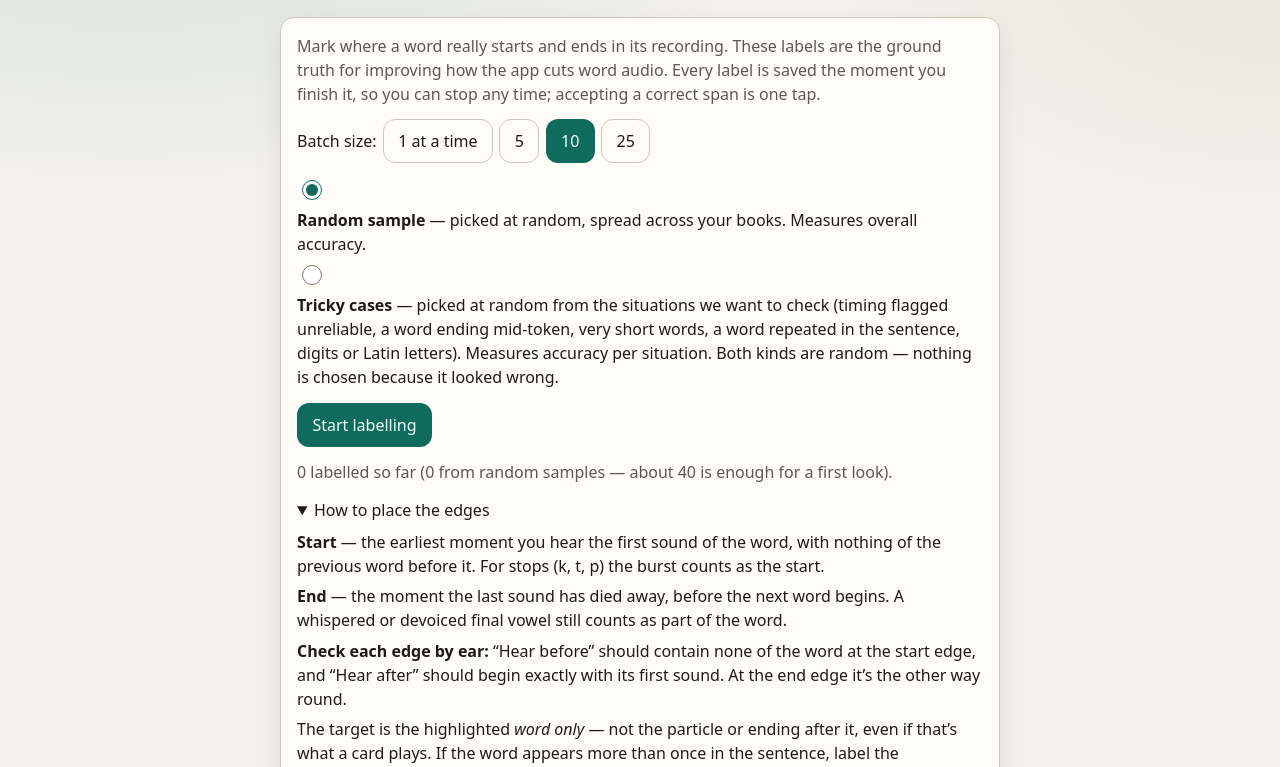
Test: LabelWordAudioPage › sampling situations › records which situation each item fell in, and how common it was in the pool
Click the button "Start labelling". click: (364, 425)
box: [297, 403, 432, 447]
(page scrolled)
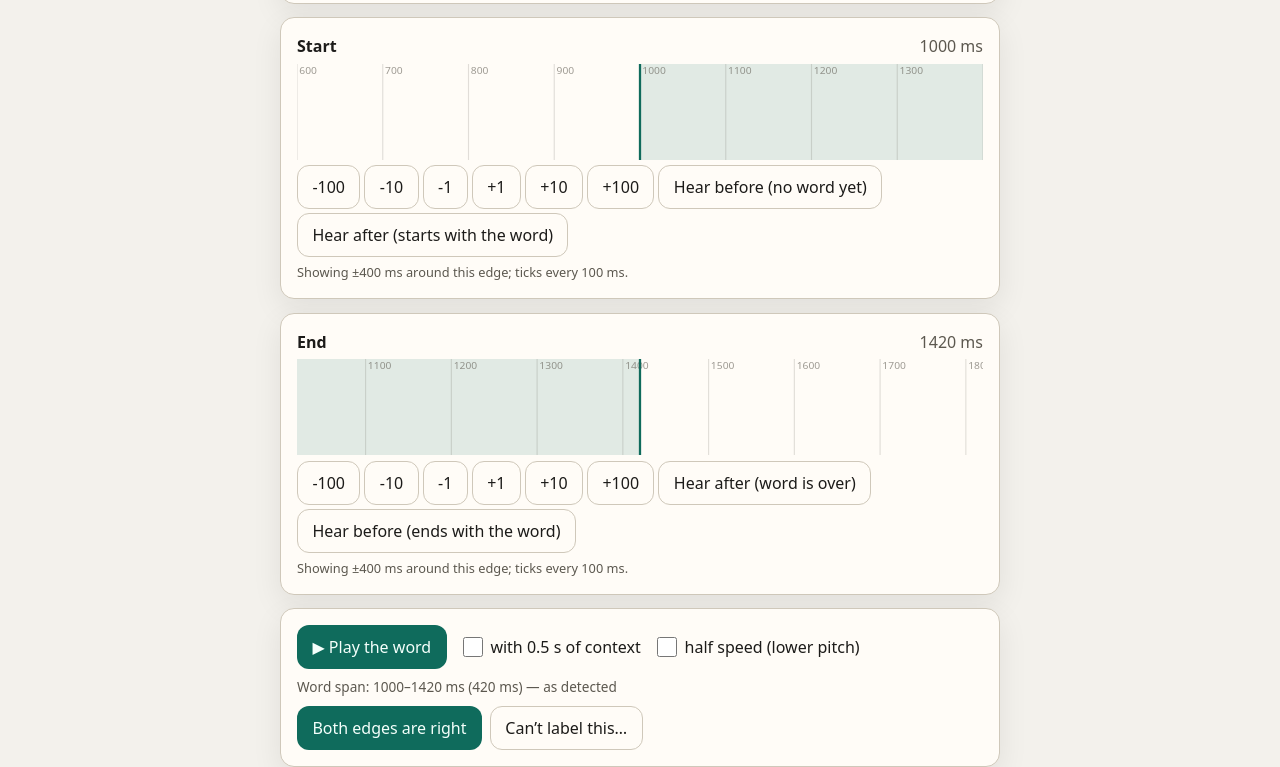
Click the button "Both edges are right". click: (389, 728)
box: [297, 706, 482, 750]
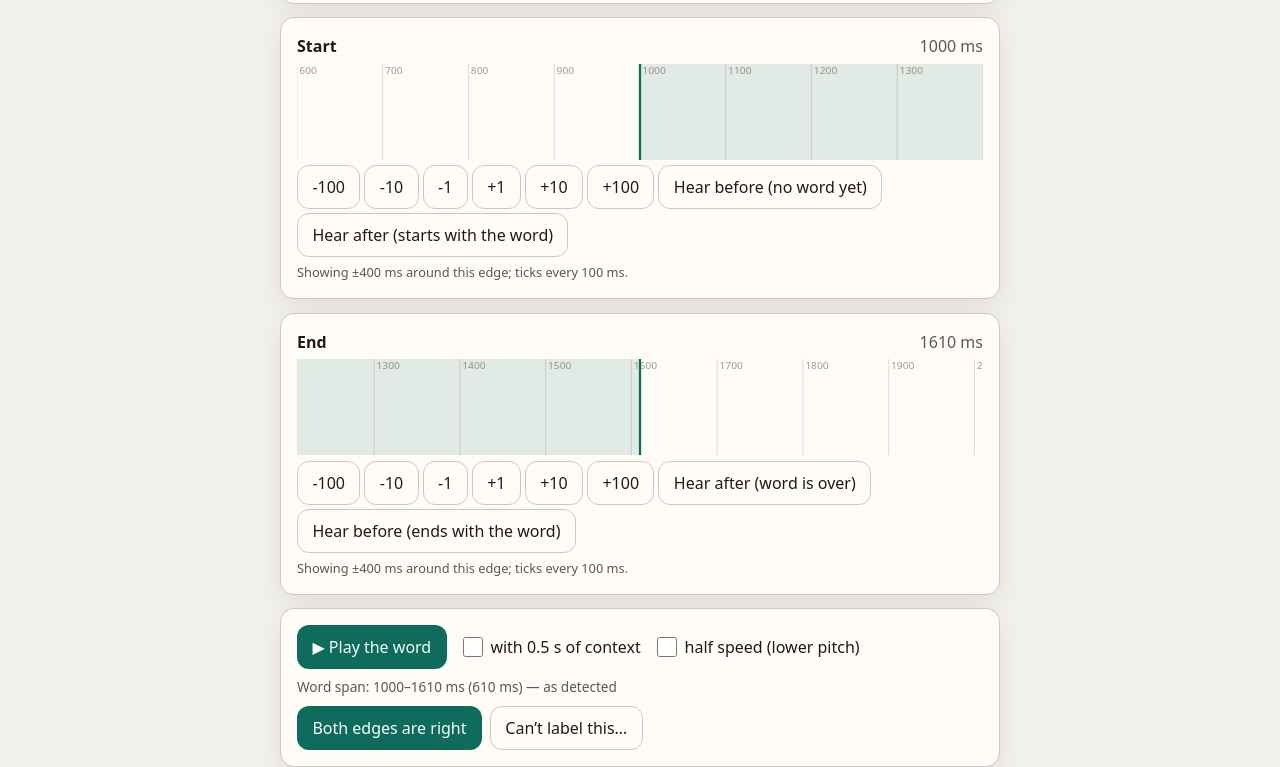
Click the button "Both edges are right". click: (389, 728)
box: [297, 706, 482, 750]
(page scrolled)
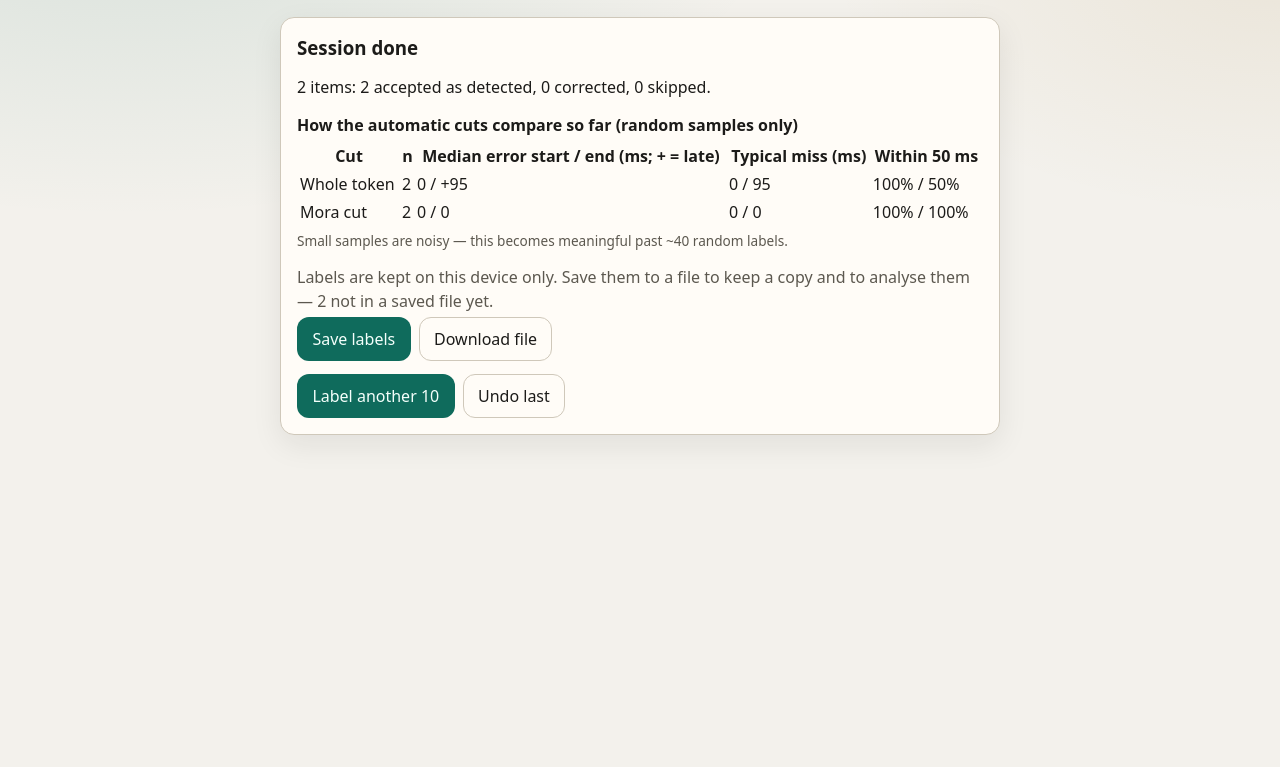
Check: the heading "Session done" is shown, box [297, 35, 418, 60]
